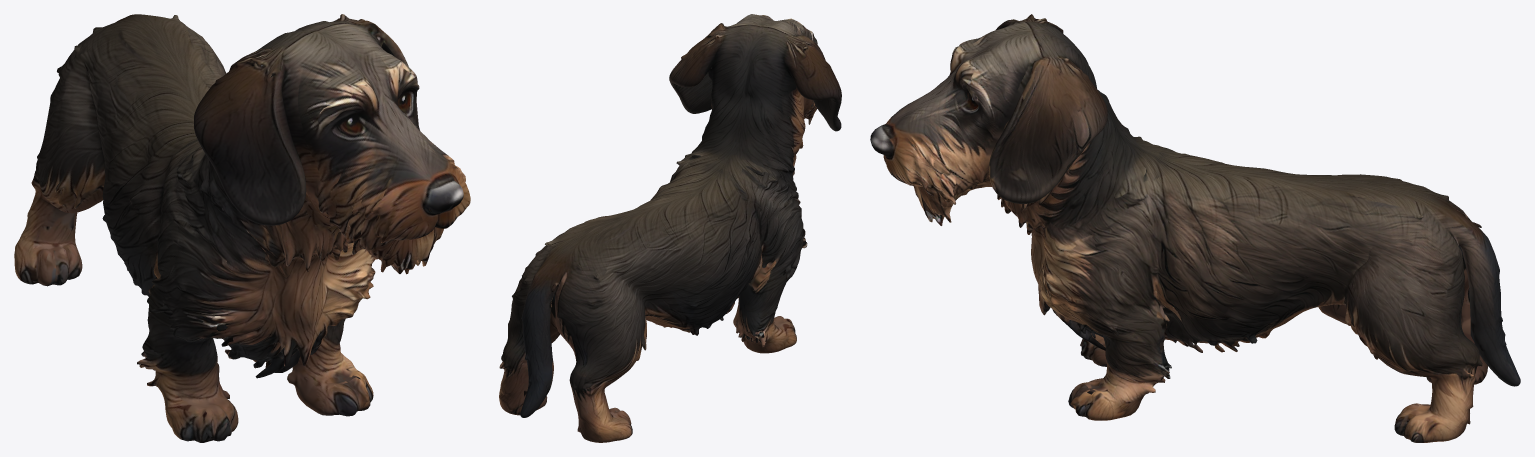
Rendered from dachshund.fbx.
3 renders of one model, left to right at view 1: azimuth 30°, elevation 25°; view 2: azimuth 150°, elevation 25°; view 3: azimuth 270°, elevation 25°, orthographic. The views are drawn at different scales.
Visible parts, largest first — view 1: Dachshund; view 2: Dachshund; view 3: Dachshund.
Part boxes in pixels (x1,y1,x2,y2): Dachshund: (14, 14, 470, 442); Dachshund: (499, 14, 841, 442); Dachshund: (870, 14, 1520, 442).
Size of the model in its own units: 36.4 by 55 by 91.51.
Materials: 1 (1 with a texture image).
